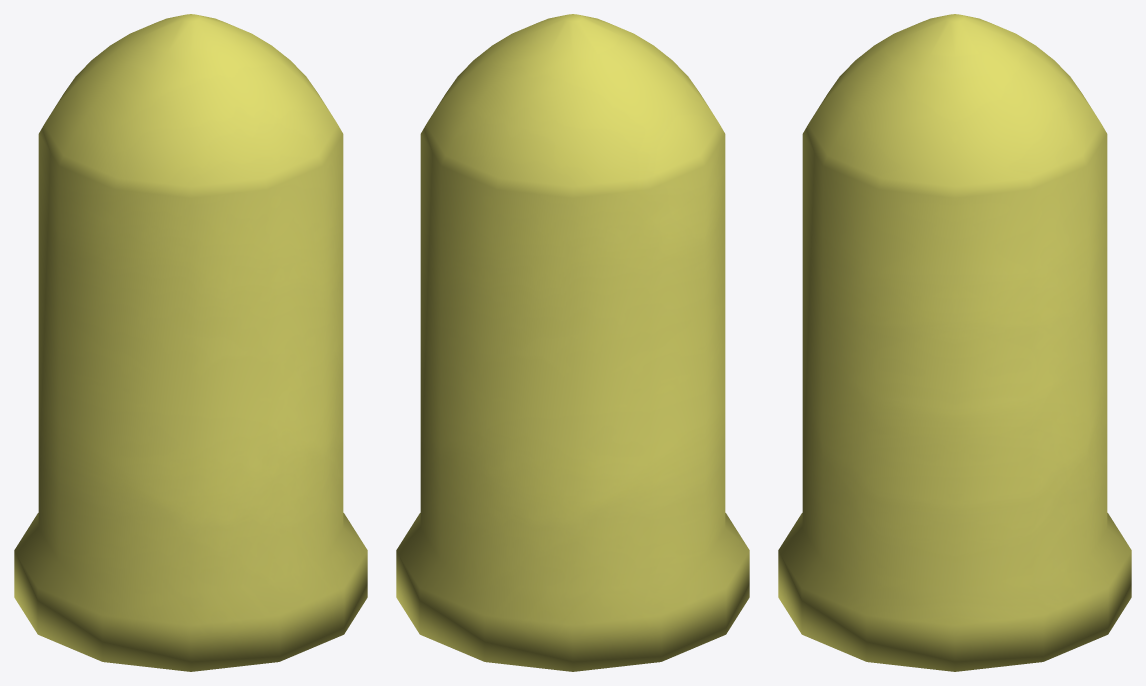
File: bullet1.fbx
The picture shows the model from 3 angles, left to right: view 1: azimuth 30°, elevation 25°; view 2: azimuth 150°, elevation 25°; view 3: azimuth 270°, elevation 25°; orthographic projection.
Parts seen in each view (by area): view 1: bullet1; view 2: bullet1; view 3: bullet1.
Part boxes in pixels (bbox=[...]): bullet1: bbox=[14, 14, 367, 671]; bullet1: bbox=[396, 14, 749, 671]; bullet1: bbox=[778, 14, 1131, 671].
Bounding box in the file's own units: 1.66 × 2.99 × 1.66.
1 material, 1 textured.
